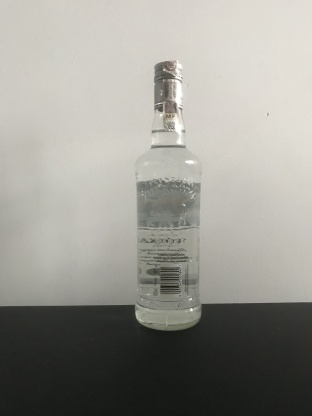nakretka: (152, 58, 184, 113)
